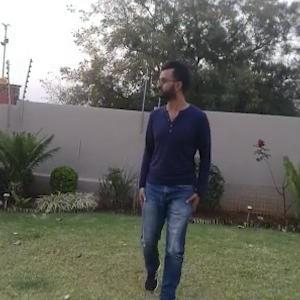follow: (128, 52, 214, 291)
